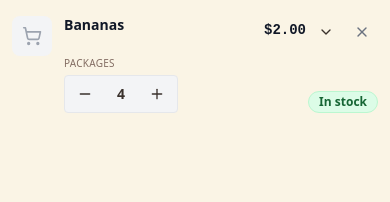
it: ReceiptItem package calculations › falls back to simple price math when package metadata is absent
Expected: the text "$2.00" is shown, x1=264 y1=22 x2=306 y2=38
Click the button named "expand item details". click: click(326, 32)
box: x1=310 y1=16 x2=342 y2=48
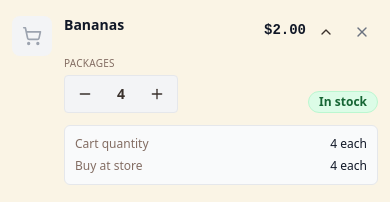
Result: the text "Cart quantity" is shown at x1=75 y1=136 x2=149 y2=152
Result: the text "4 each" is shown 2 times at x1=330 y1=136 x2=367 y2=152; x1=330 y1=158 x2=367 y2=174
